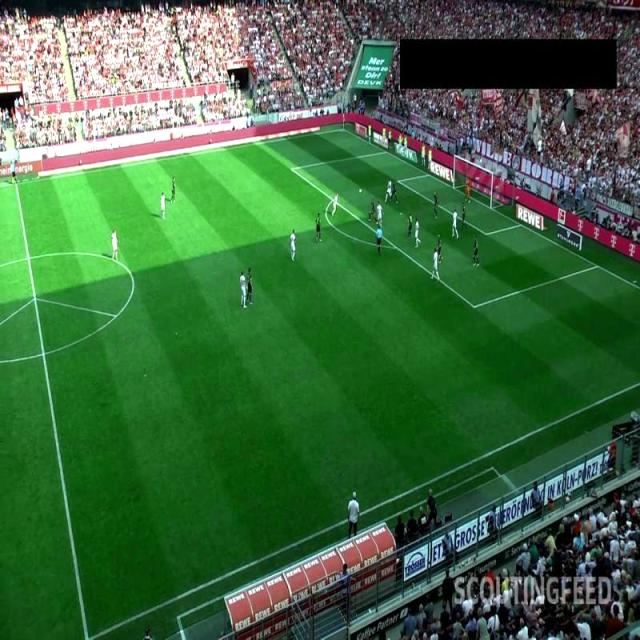bigarea_bottom_inner: (465, 299, 483, 316)
bigarea_bottom_outter: (592, 261, 602, 272)
bigarea_top_inner: (286, 164, 297, 175)
bigarea_top_outter: (381, 146, 392, 158)
bottom_arc_area_intersection: (390, 242, 401, 252)
corner: (338, 122, 348, 134)
halfcircle_bottom: (37, 348, 48, 358)
halfcircle_top: (23, 253, 34, 264)
midline_top_intersection: (10, 176, 20, 187)
smallarea_bottom_inner: (481, 228, 492, 240)
smallarea_bottom_outter: (516, 220, 528, 230)
smallarea_top_inner: (393, 176, 404, 187)
smallarea_top_outter: (424, 170, 434, 180)
top_arc_area_intersection: (328, 196, 338, 207)
